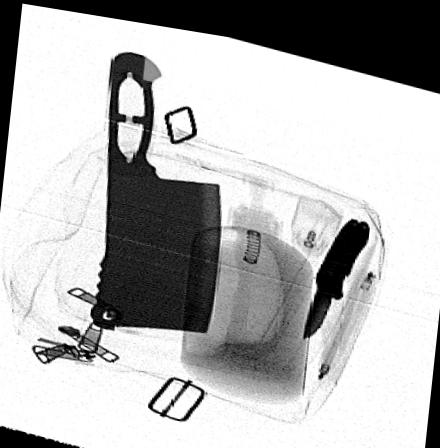Knife: (90, 47, 222, 327), (302, 205, 371, 331)
